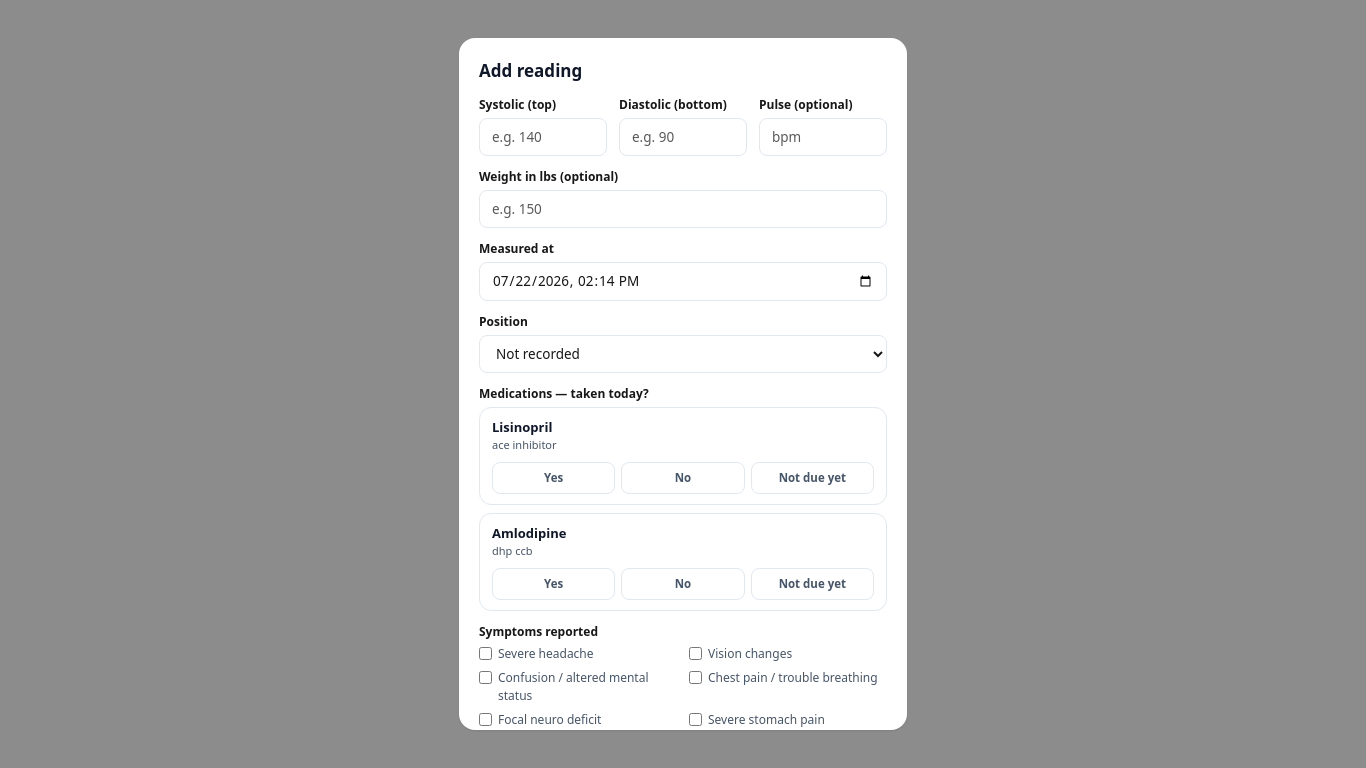
Test: AddEditReadingModal — medication adherence (patient check-in parity) › renders Yes / No / Not due yet per med; No reveals reason + missed doses
Check: the element with test id "admin-reading-med-med-1" shows "Lisinopril", box [492,418,552,436]
Check: the button with test id "admin-reading-med-med-1-scheduledLater" reads "Not due yet", box [751,462,874,494]
Step 1. Click the button with test id "admin-reading-med-med-1-no" → x=683, y=478, box [621,462,745,494]
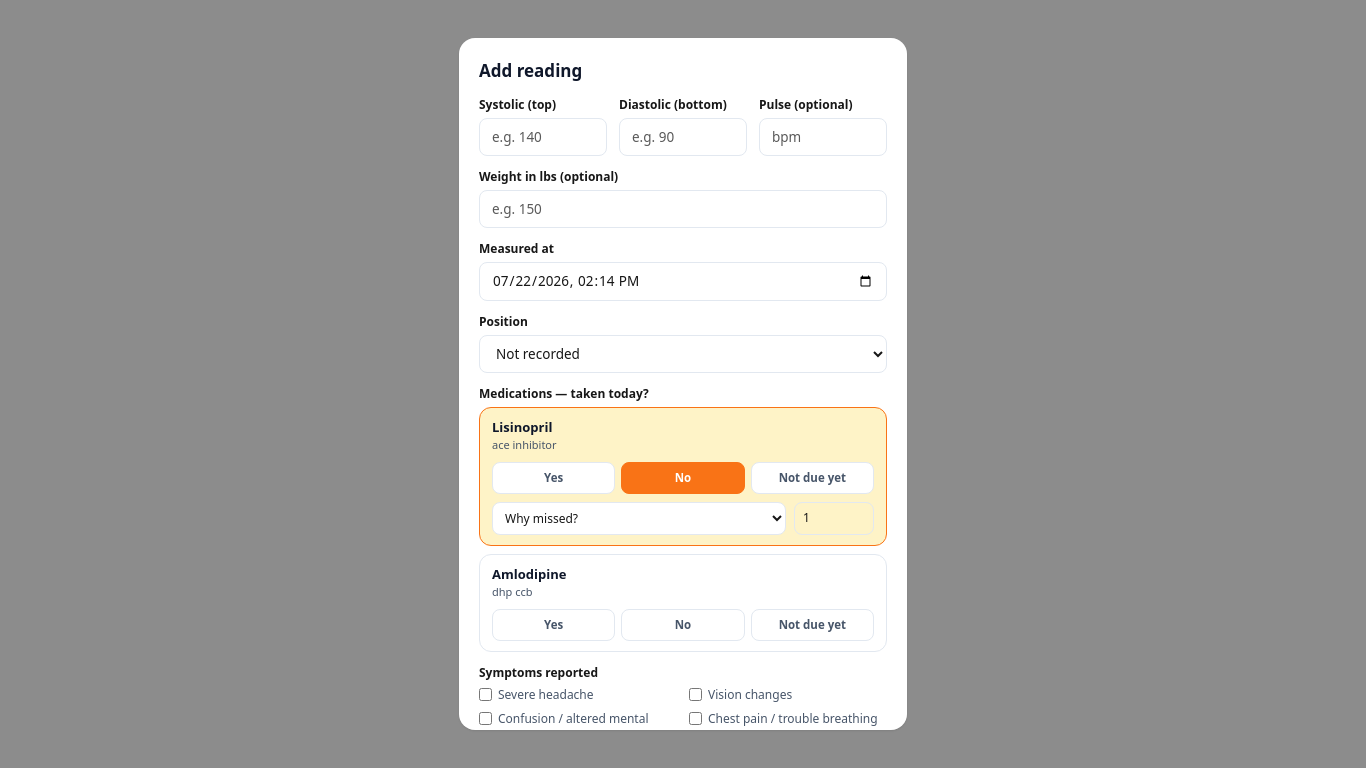
Check: the dropdown with test id "admin-reading-med-med-1-reason" is shown, box [492,502,786,535]
Check: the number field with test id "admin-reading-med-med-1-doses" is shown, box [794,502,874,535]
